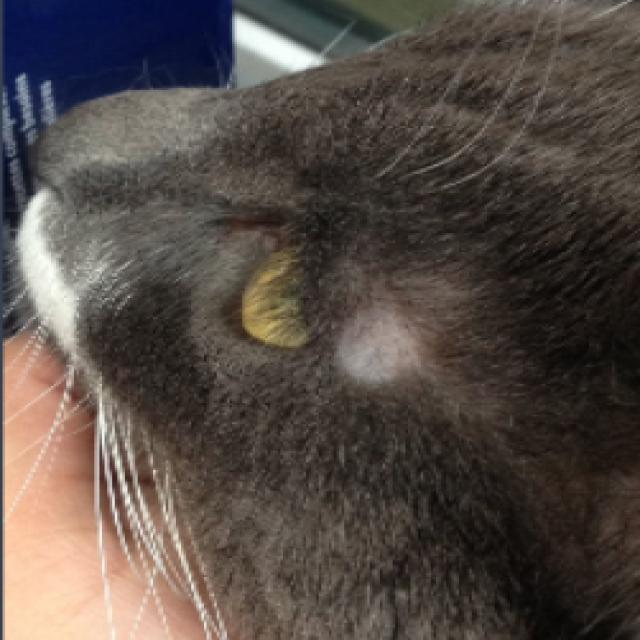hac lao: (252, 229, 522, 417)
